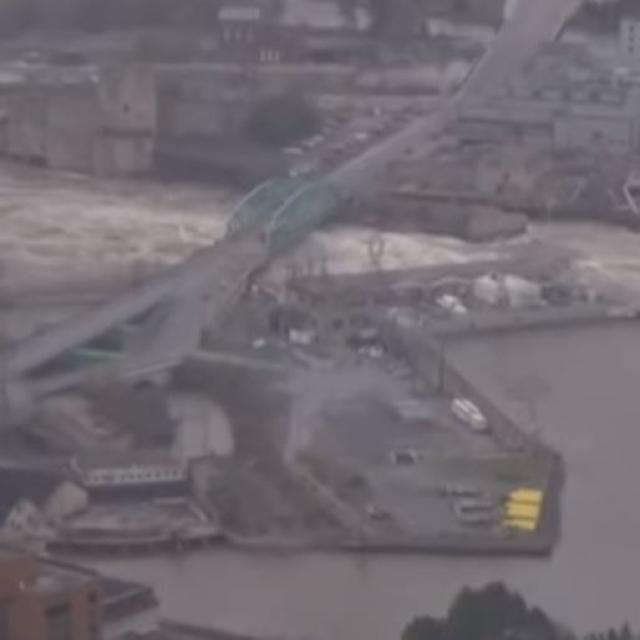flooded_areas: (9, 111, 638, 460)
